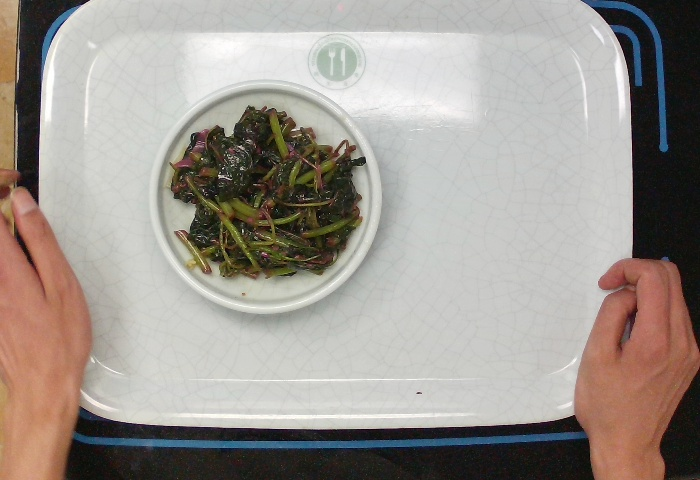JYsf-Xiao_Yuan_Pan: (145, 77, 383, 317)
